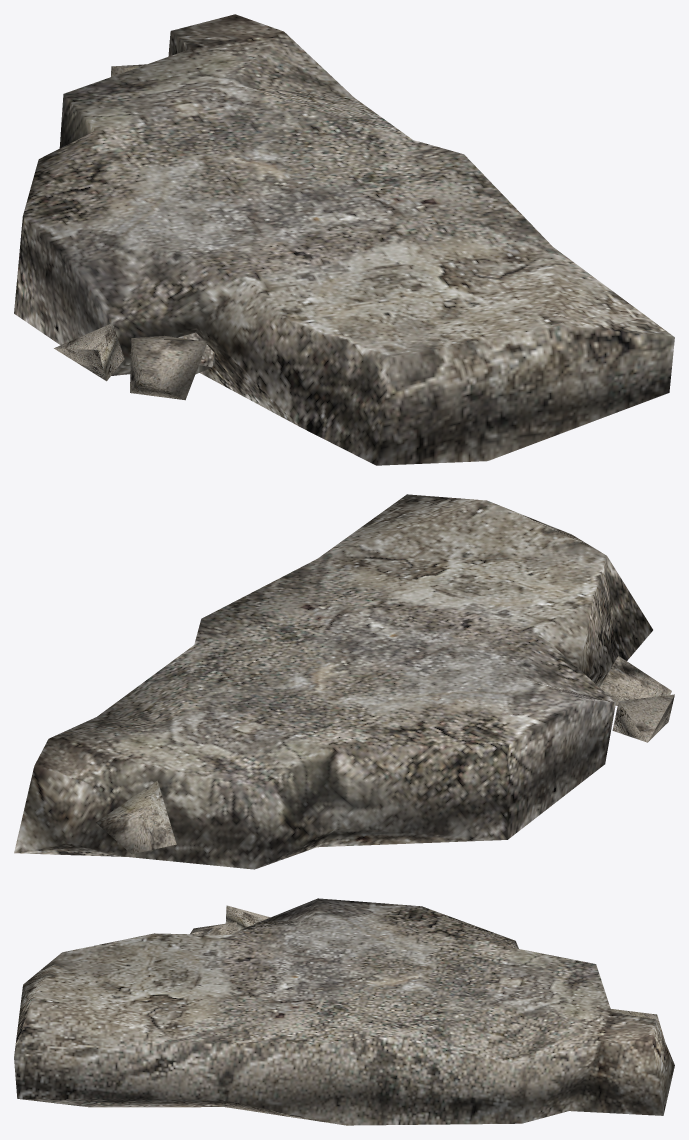
Rendered from Debris1_3_LOD1.fbx.
The picture shows the model from 3 angles, top to bottom: view 1: azimuth 30°, elevation 25°; view 2: azimuth 150°, elevation 25°; view 3: azimuth 270°, elevation 25°; orthographic projection. The views are drawn at different scales.
Visible parts, largest first — view 1: polySurface158; view 2: polySurface158; view 3: polySurface158.
Boxes of the visible parts, x1,y1,x2,y2 form: polySurface158: (14,14,674,465); polySurface158: (14,494,674,869); polySurface158: (14,898,674,1125).
Size of the model in its own units: 2.25 by 0.5411 by 3.78.
